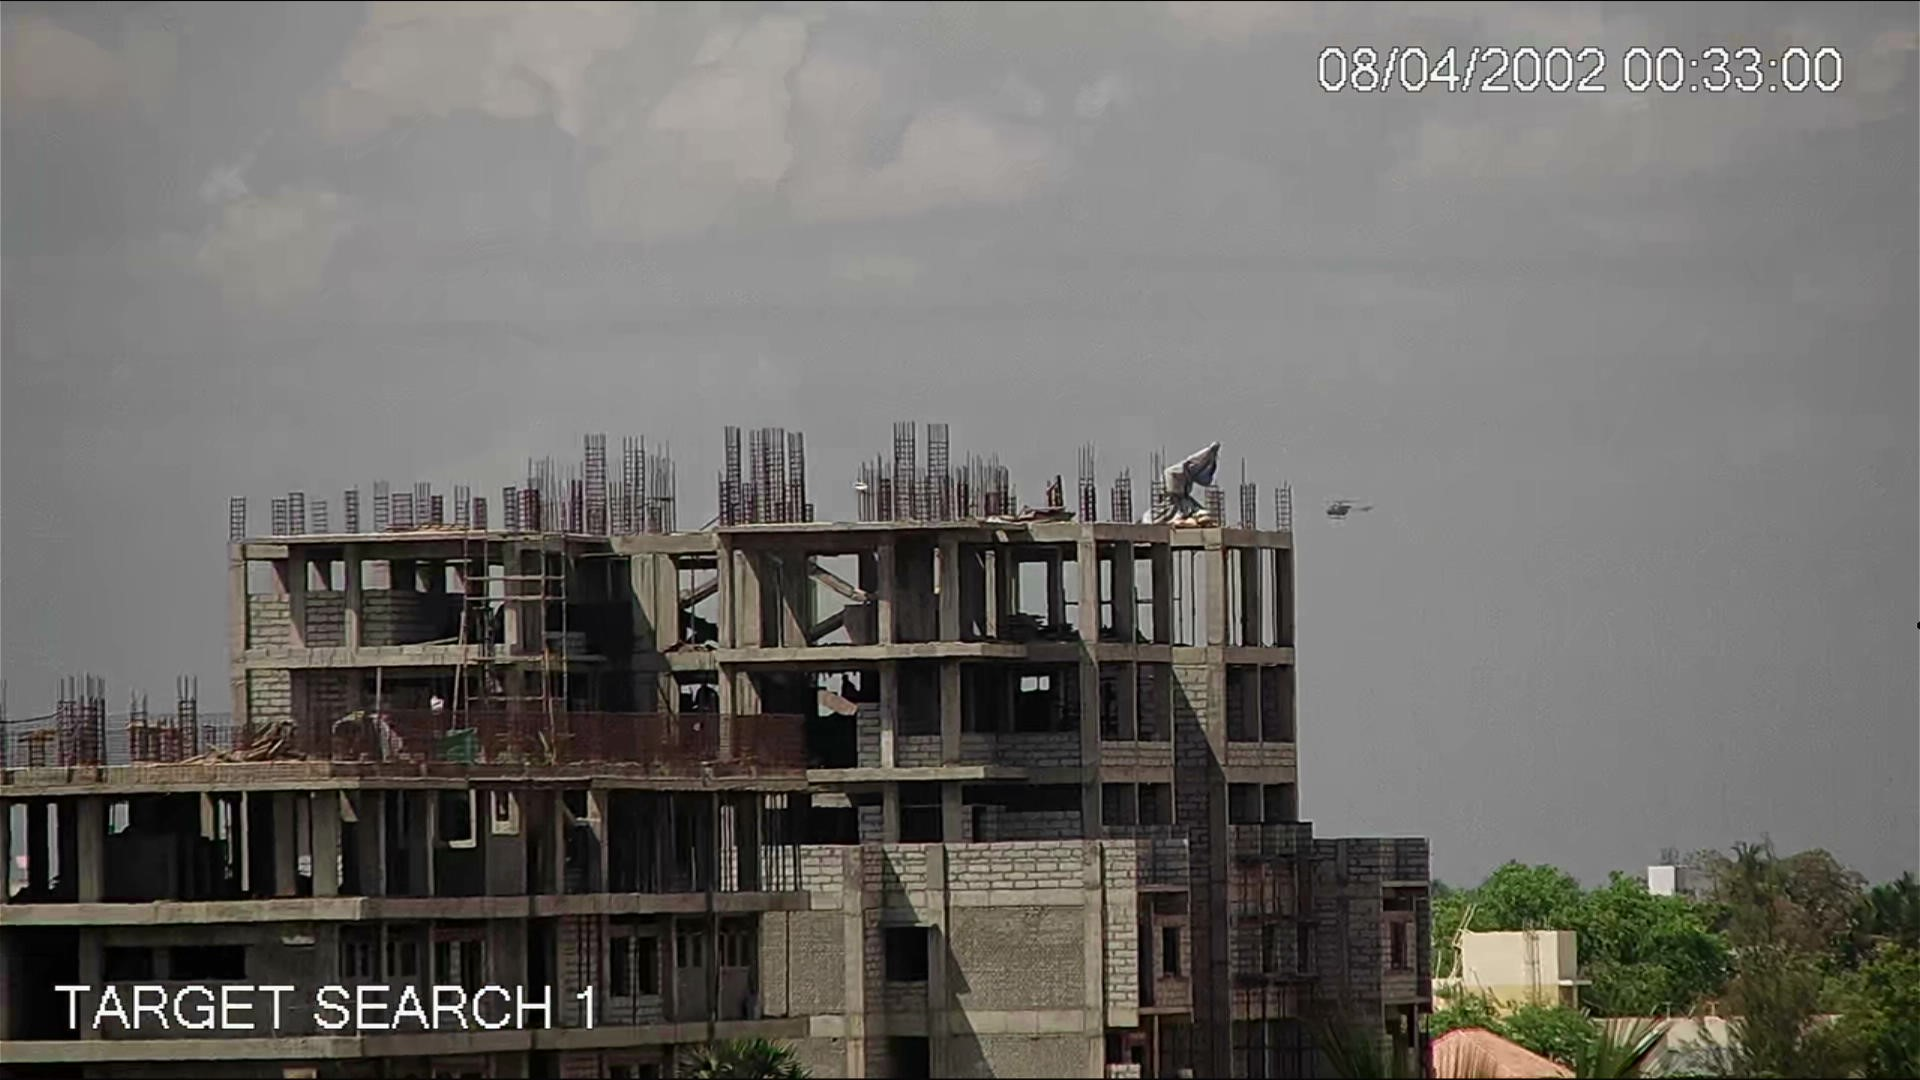SU_30: (1325, 495, 1374, 524)
